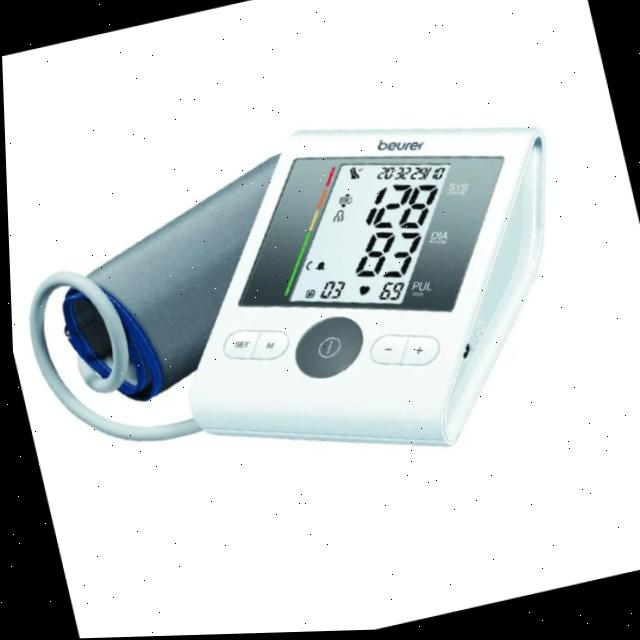dia: (337, 229, 420, 282), (357, 277, 405, 316)
ssd: (286, 131, 449, 339)
sys: (349, 182, 438, 235)
